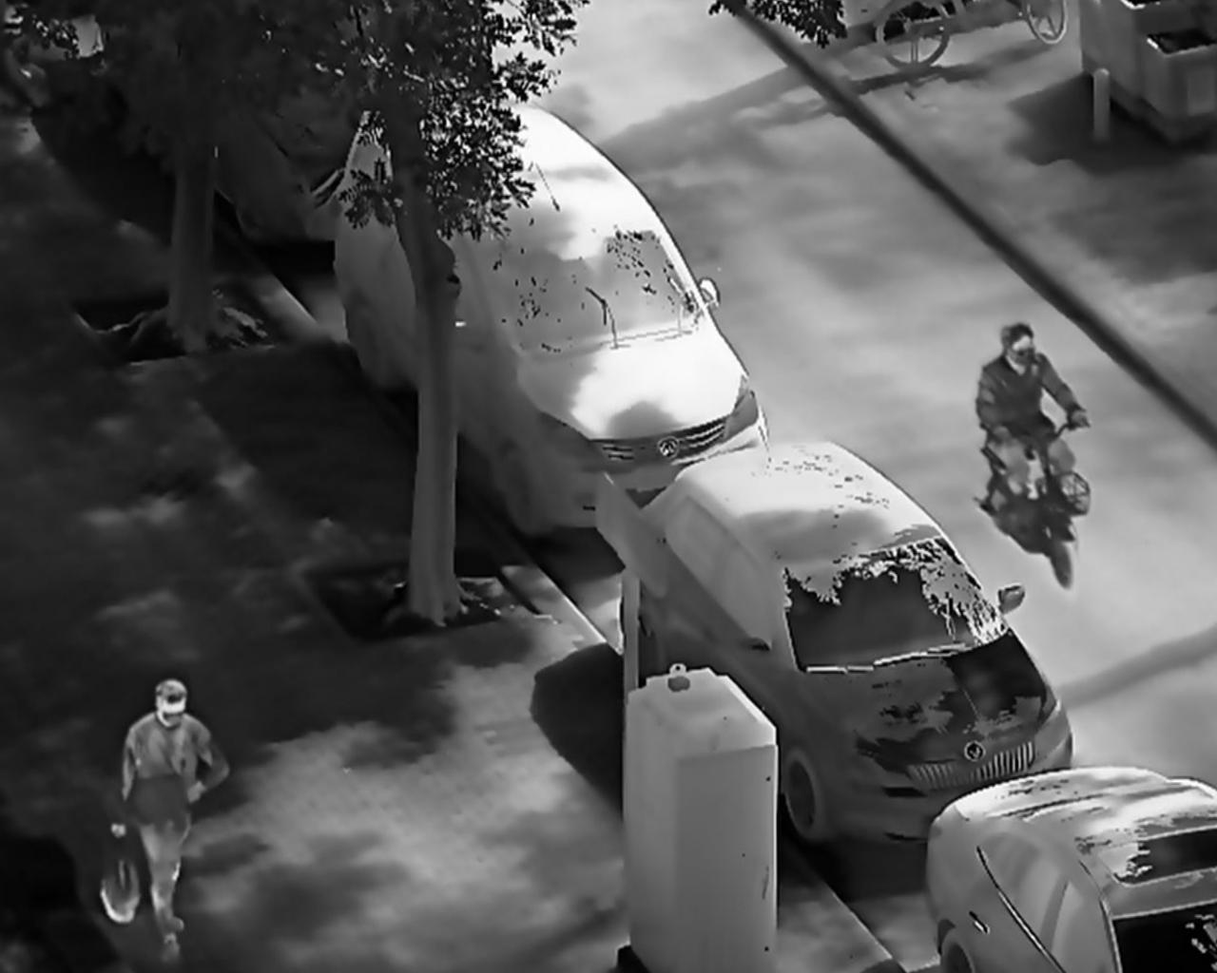person: (111, 677, 233, 968), (975, 323, 1093, 524)
